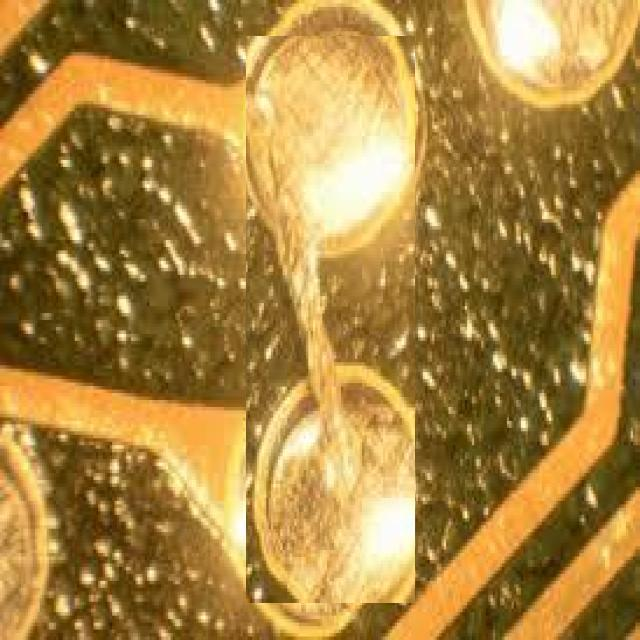Short_circuit: (246, 37, 415, 601)
